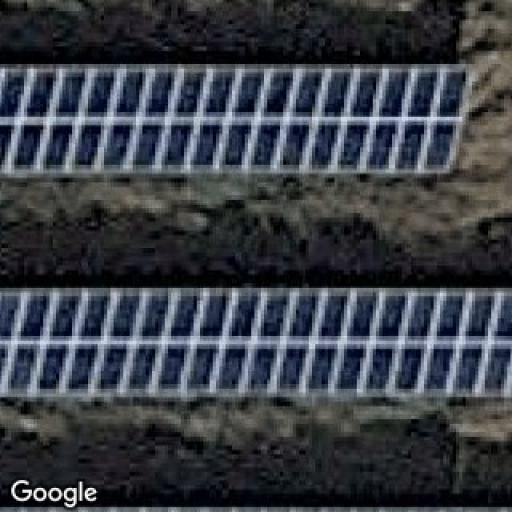solar-panel: (0, 290, 512, 395), (0, 60, 459, 174), (0, 505, 512, 512)
